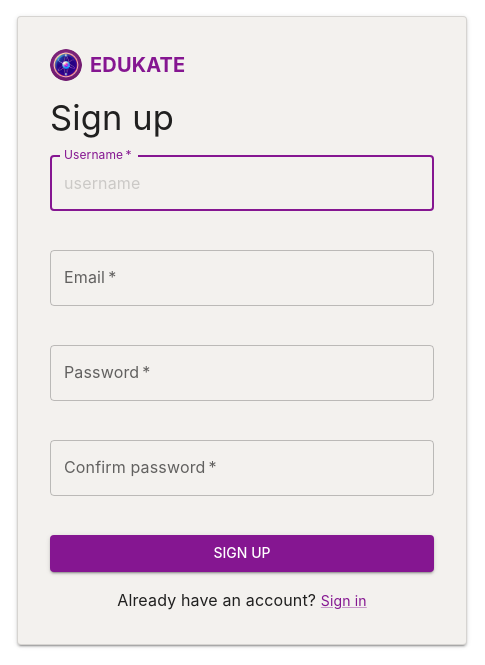
SignUpForm › shows password validation error on blur
Type "abc" into the password field labelled "Password *" at (242, 373), box [50,345,434,401]
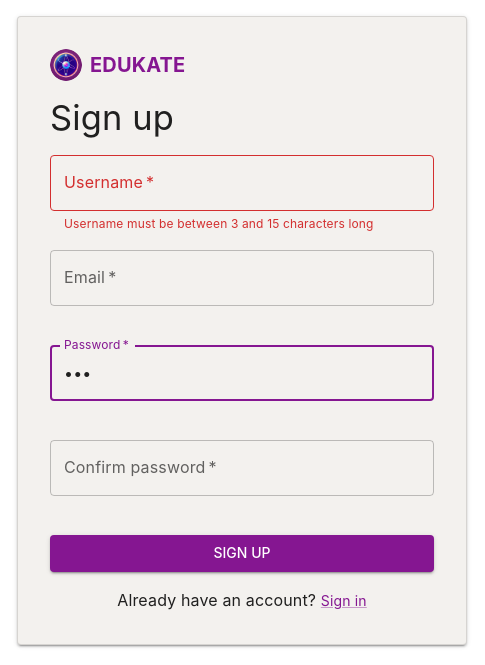
Press Tab
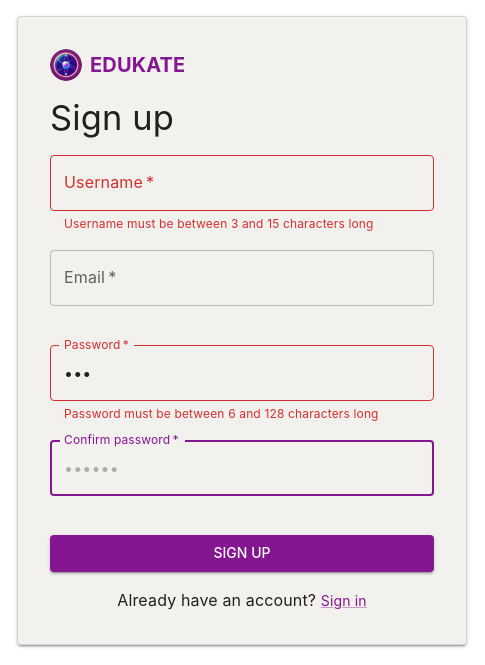
Now the text "Password must be between 6 and 128 characters long" is shown, box [64,404,420,424]
